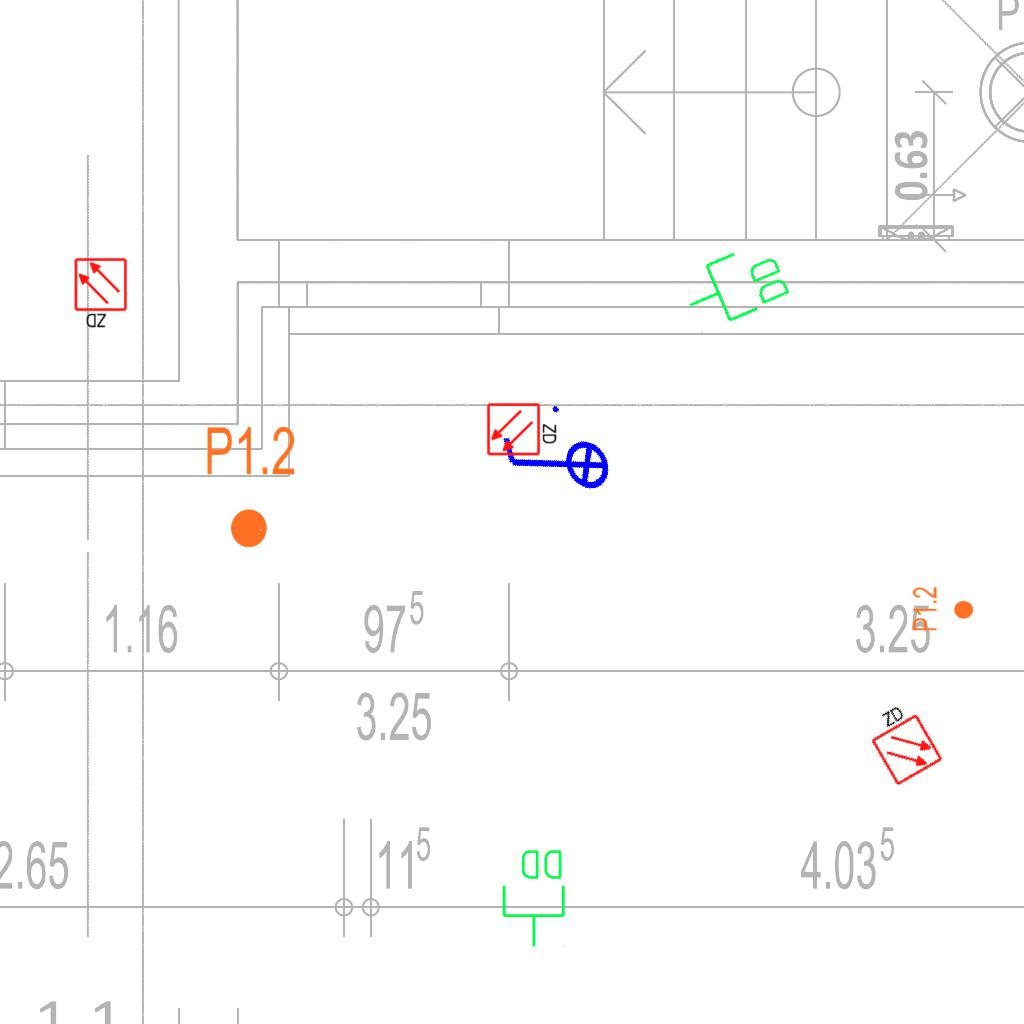Ausschalter_beleuchtet: (486, 390, 626, 536)
Datenanschluss_zweifach: (674, 234, 797, 339), (500, 846, 569, 949)
Downlight_LED_Einbauleuchten_Flur: (204, 423, 297, 551), (911, 586, 975, 632)
ZD_Melder_in_Zwischendecke_mit_Revisionsoeffnung_mind_40_x_40_cm: (858, 695, 945, 789), (73, 257, 130, 331), (486, 400, 560, 457)
